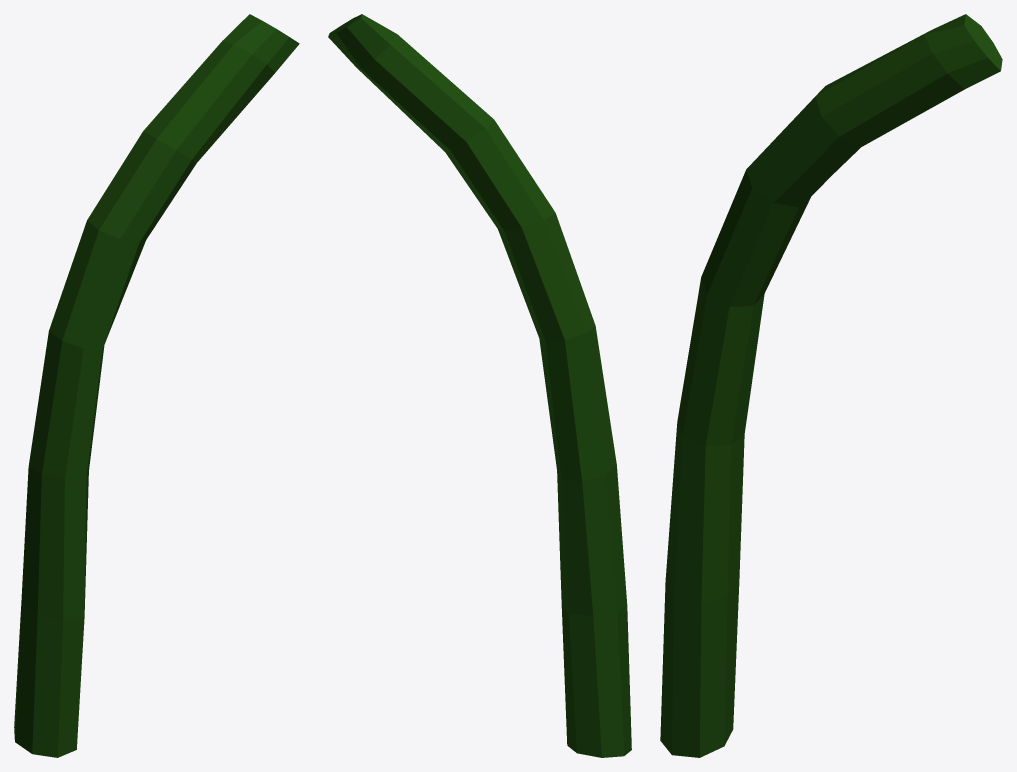
The model's file is Planta1fbx.fbx.
3 renders of one model, left to right at view 1: azimuth 30°, elevation 25°; view 2: azimuth 150°, elevation 25°; view 3: azimuth 330°, elevation 25°, orthographic. The views are drawn at different scales.
Visible parts, largest first — view 1: RetopoFlow.003; view 2: RetopoFlow.003; view 3: RetopoFlow.003.
Boxes of the visible parts, box(x1,y1,x2,y2) form: RetopoFlow.003: box(14, 14, 299, 757); RetopoFlow.003: box(328, 14, 631, 757); RetopoFlow.003: box(660, 14, 1002, 757).
Bounding box in the file's own units: 136 × 304 × 29.76.
